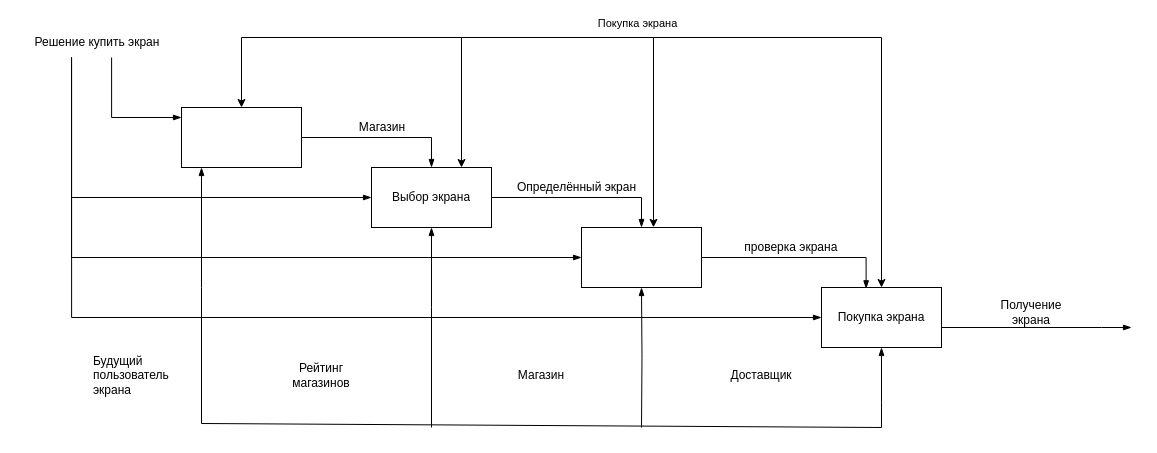
The diagram is 1157 pixels wide and 453 high, and some of its shapes have lost their labels. The centre of each missing label's shape, as x and y in pixels:
"Выбор магазина" goes at (241,137).
"Заказ экрана" goes at (641,257).
